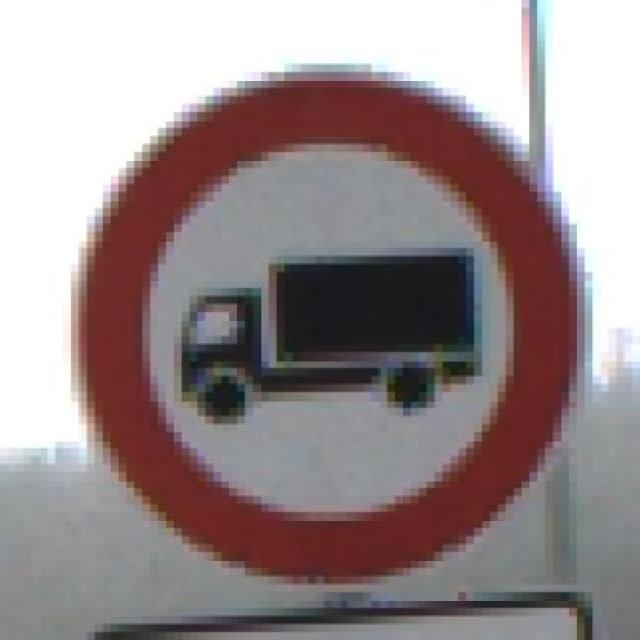Truck traffic is prohibited: (47, 56, 601, 624)
